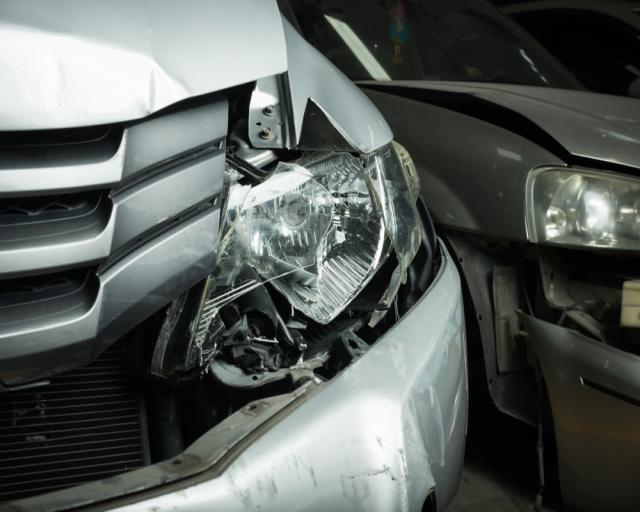dent: (0, 23, 190, 130)
lamp broken: (184, 147, 432, 385)
scratch: (213, 315, 464, 512)
